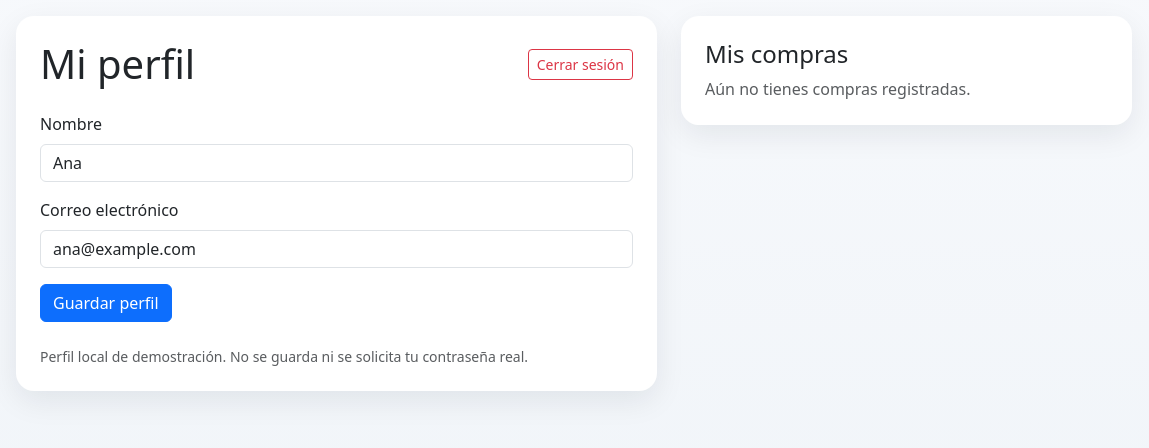
Test: Flujos de cuenta, perfil y carrito › actualiza el nombre del perfil en localStorage
Replace the text in the field labelled "Nombre" with "Ana Actualizada" at (336, 163), box [40,144,633,182]
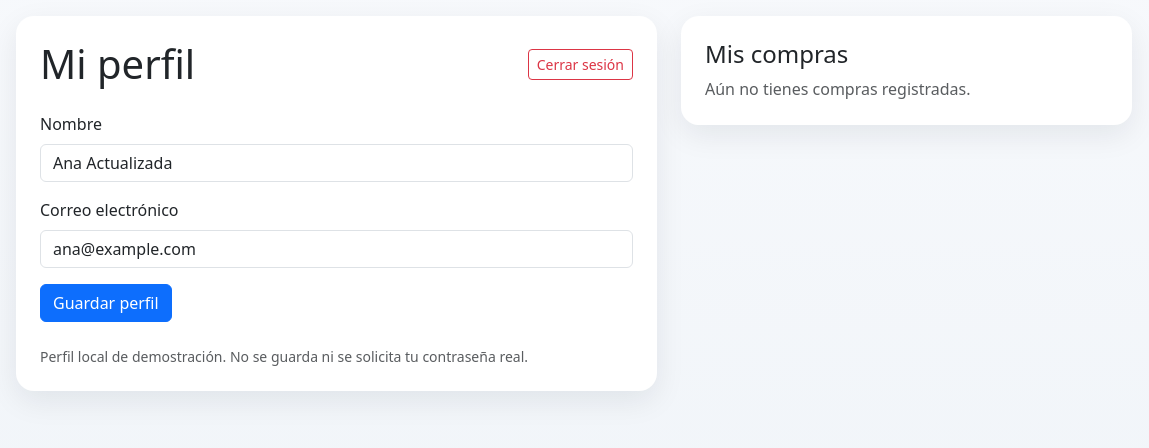
Click the button "Guardar perfil" at (106, 303), box [40,284,172,322]
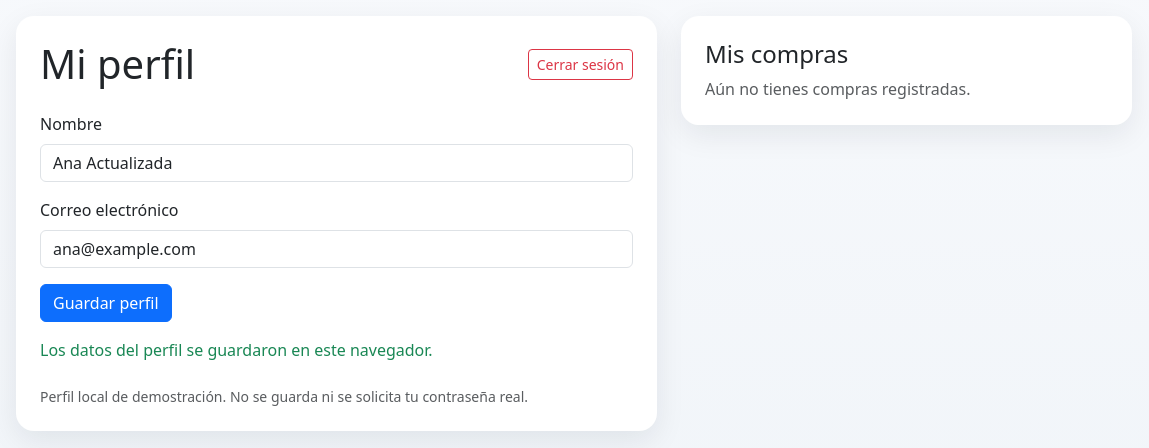
Now the message shows "guardaron", box [40,339,433,361]
